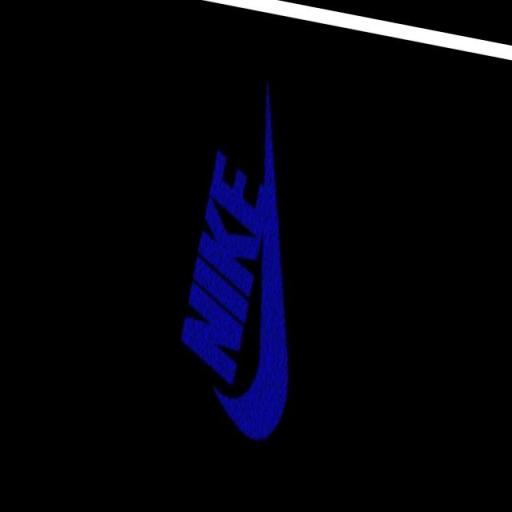Nike: (212, 130, 338, 444), (173, 139, 283, 385)
